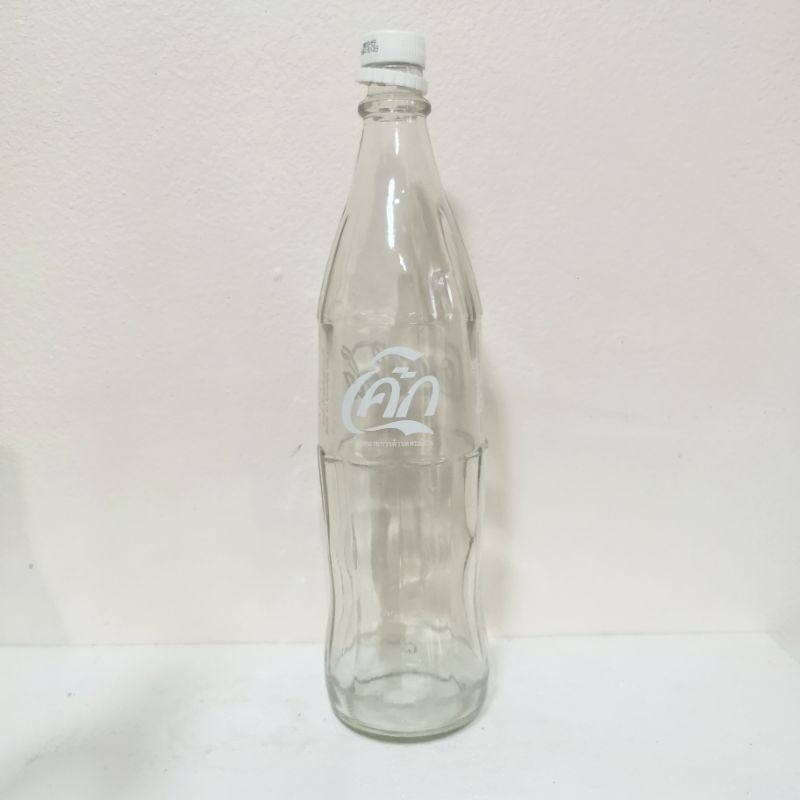glass_bottle: (296, 15, 517, 762)
